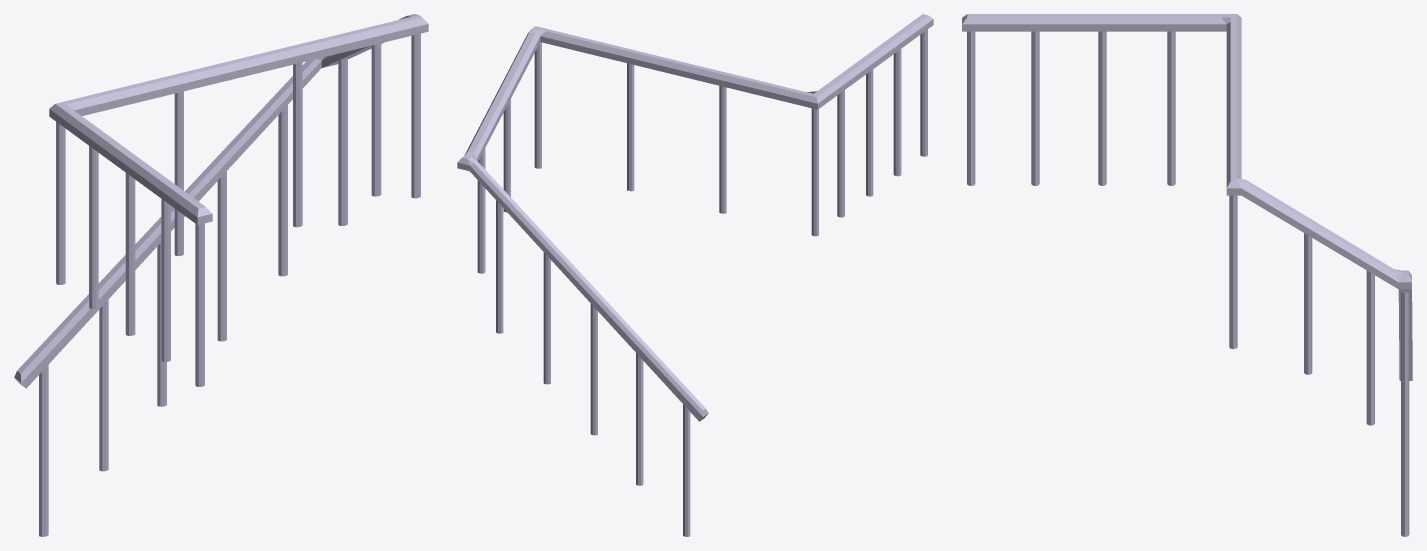
File: Railings.fbx
3 views of the same model, side by side, from view 1: azimuth 30°, elevation 25°; view 2: azimuth 150°, elevation 25°; view 3: azimuth 270°, elevation 25° (orthographic). The views are drawn at different scales.
Visible parts, largest first — view 1: Railings; view 2: Railings; view 3: Railings.
Boxes of the visible parts, box(x1,y1,x2,y2) form: Railings: box(14, 14, 428, 536); Railings: box(457, 14, 933, 536); Railings: box(962, 14, 1412, 536).
Size of the model in its own units: 240 by 318 by 268.
